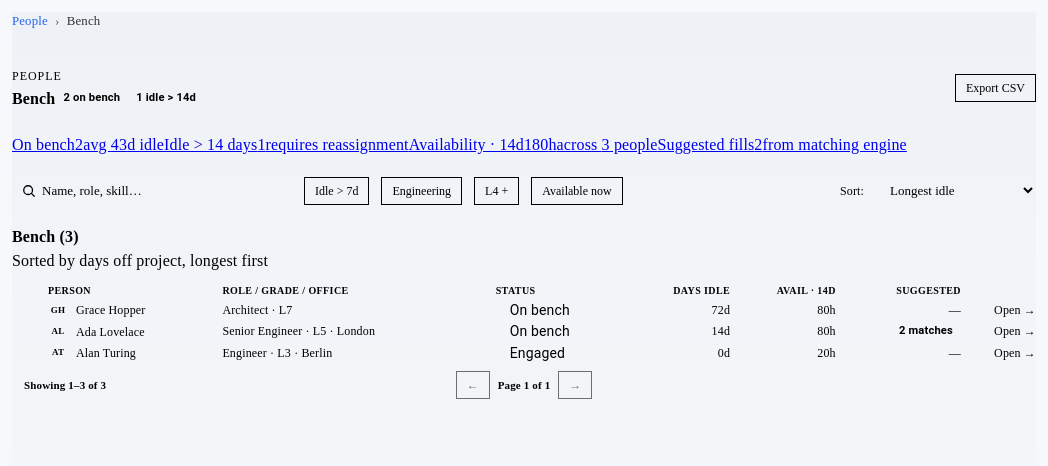
it: BenchEnrichedPanel — A7/A8/A9 chrome › A9: inspector opens with a prev/next stepper that walks the sorted list
Expected: the element with test id "bench-enriched-list" is shown, x1=12 y1=281 x2=1036 y2=363
Click the text "Ada Lovelace". click: (110, 332)
box: x1=76 y1=323 x2=145 y2=341
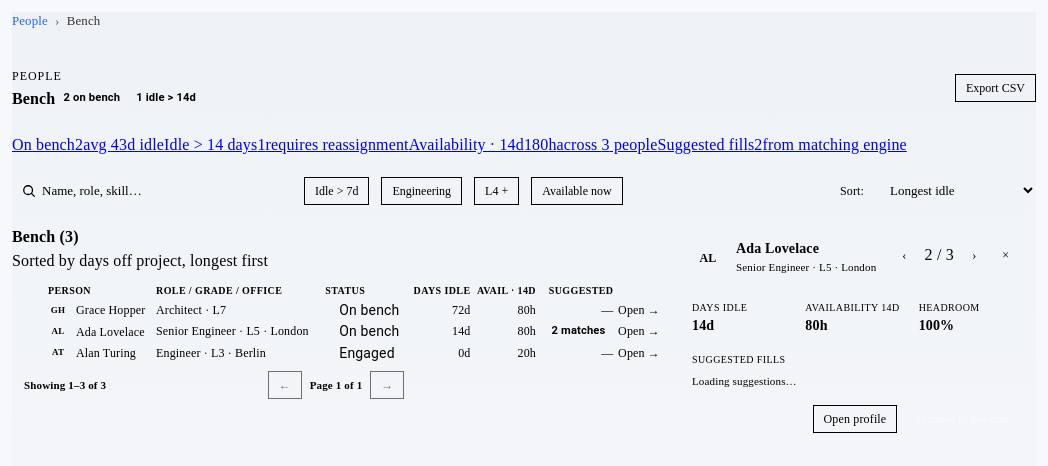
Expected: the element with test id "bench-inspector" is shown, x1=676 y1=225 x2=1036 y2=450
Expected: the element with test id "bench-inspector-stepper" shows "2 / 3", x1=891 y1=241 x2=987 y2=269
Click the button named "Next person". click: (974, 255)
box: x1=961 y1=241 x2=987 y2=269
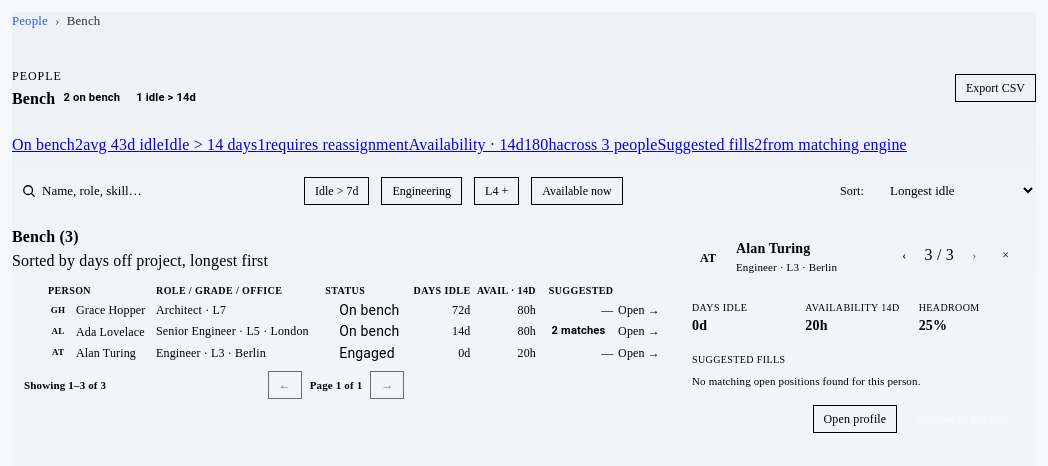
Expected: the element with test id "bench-inspector-stepper" shows "3 / 3", x1=891 y1=241 x2=987 y2=269
